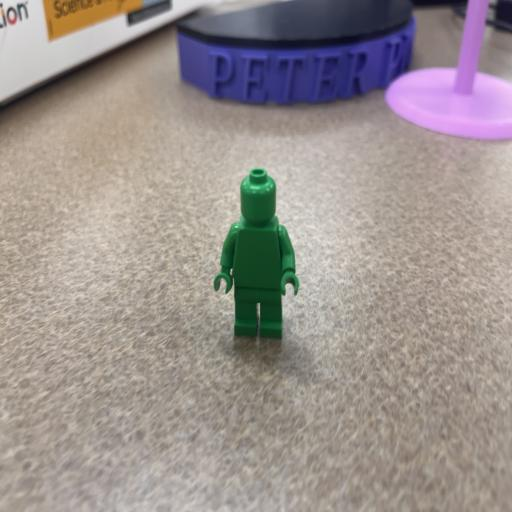Lego-Minifig: (214, 168, 299, 338)
